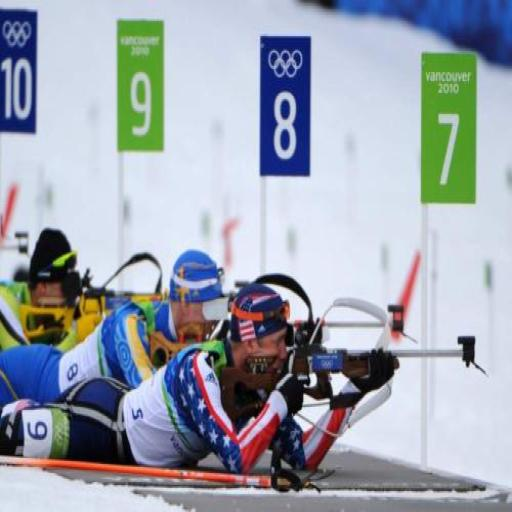shooting: (0, 279, 401, 486), (0, 248, 233, 422), (0, 214, 203, 358)
